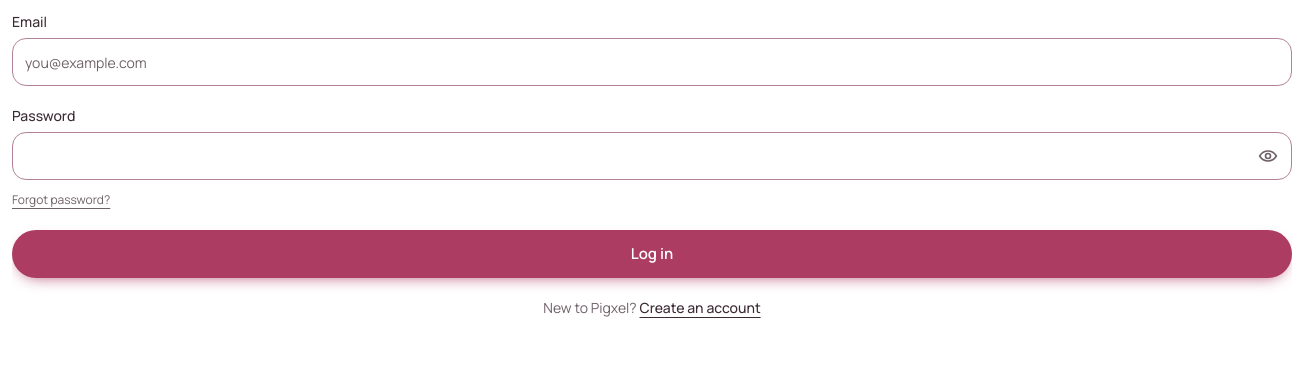
it: auth form › shows the error and keeps the email after a failed attempt
This screenshot has width=1304, height=375.
In the field labelled "Email": (652, 62) [12,38,1292,86], type "artist@pigxel.test"
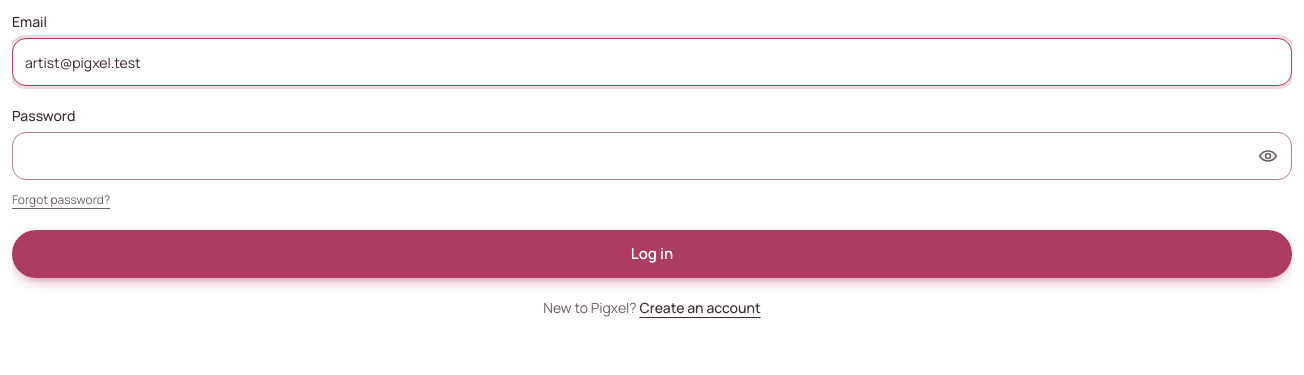
In the password field labelled "Password": (652, 156) [12,132,1292,180], type "wrong-password"
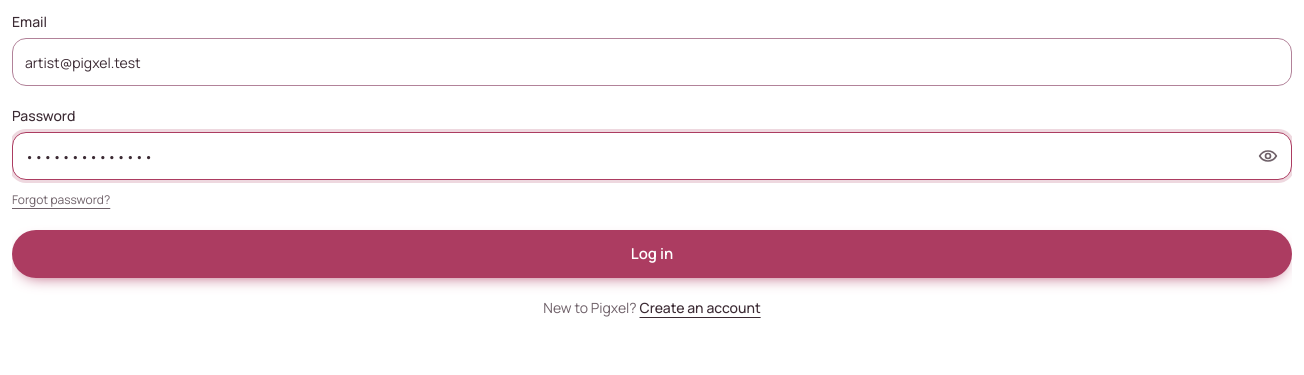
Click the button "Log in": click(652, 254) [12,230,1292,278]
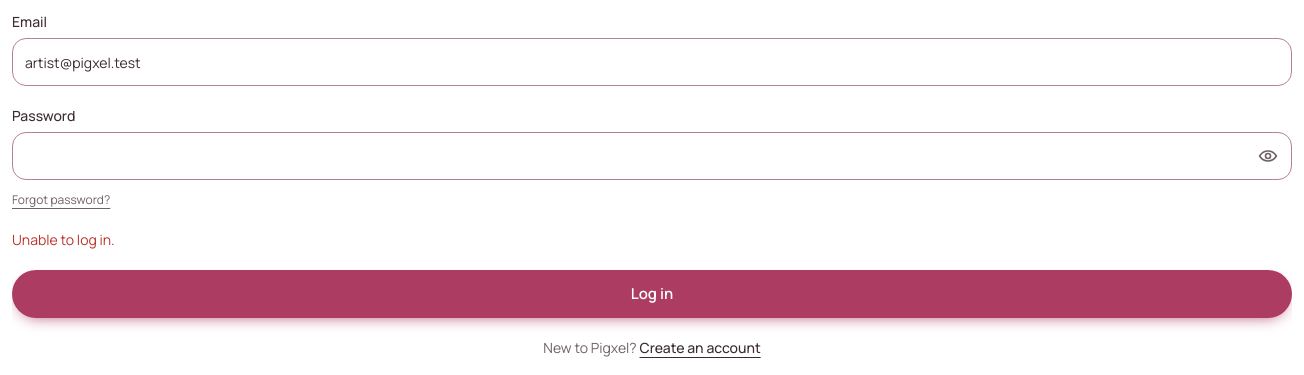
Expected: the text "Unable to log in." is shown, [12,230,115,249]
Expected: the password field labelled "Password" is empty, [12,132,1292,180]
